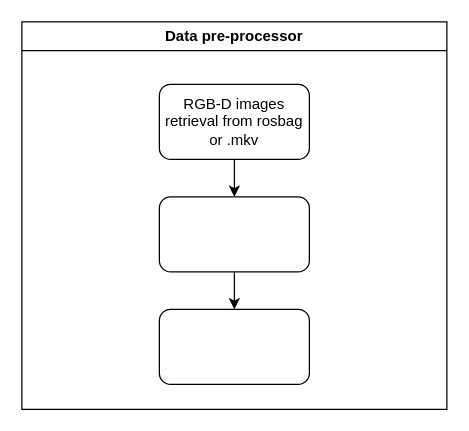
Some shapes in this 469 by 431 pixel diagram are drawn without their labels. The centre of each missing label's shape, as x and y in pixels:
Alignment of RGB-D: point (233, 234)
Pose generation: point (233, 346)
